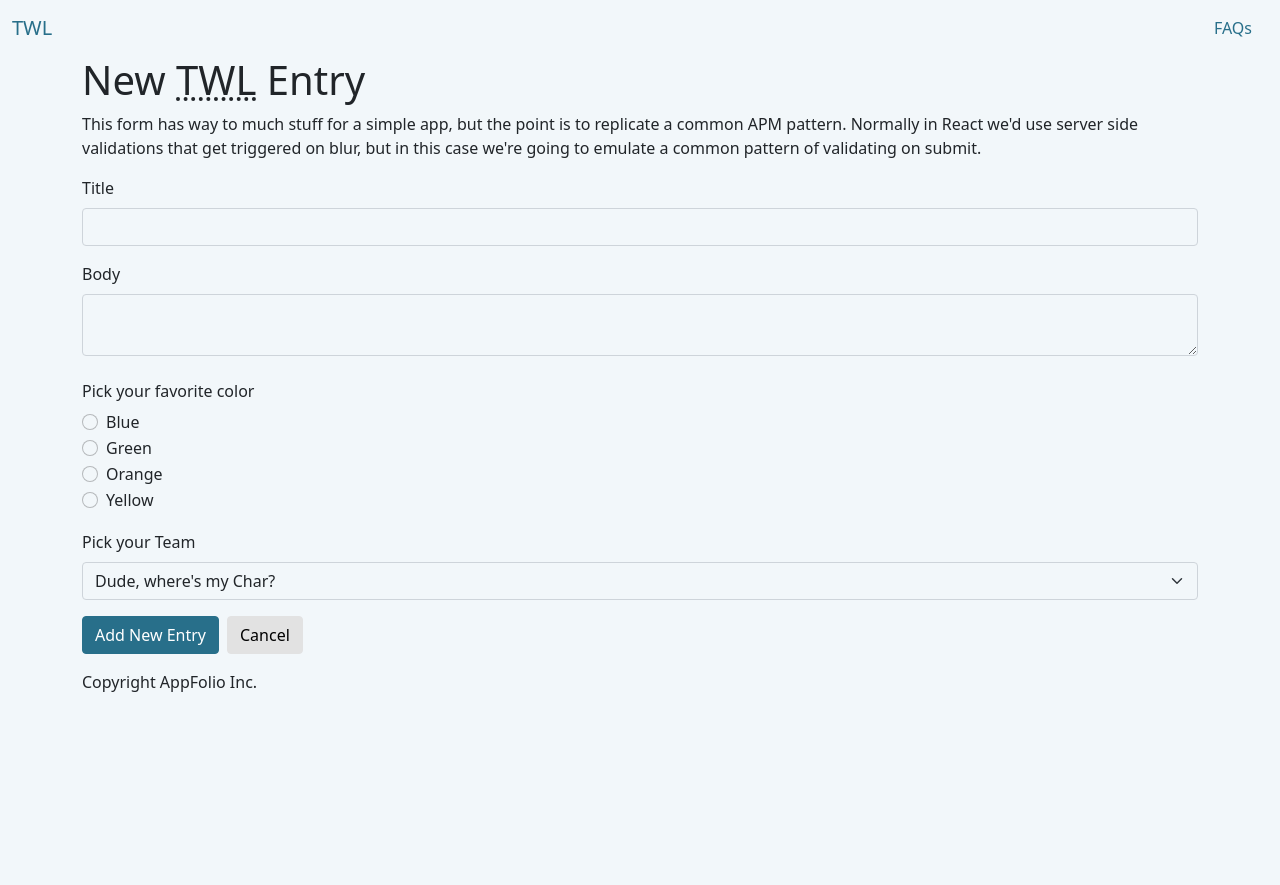
App › successfully adds a new entry
The width and height of the screenshot is (1280, 885).
Type "Suh dude" into the field labelled "Title".
click(640, 227); type("Suh dude")  # box 82,208 -> 1198,246
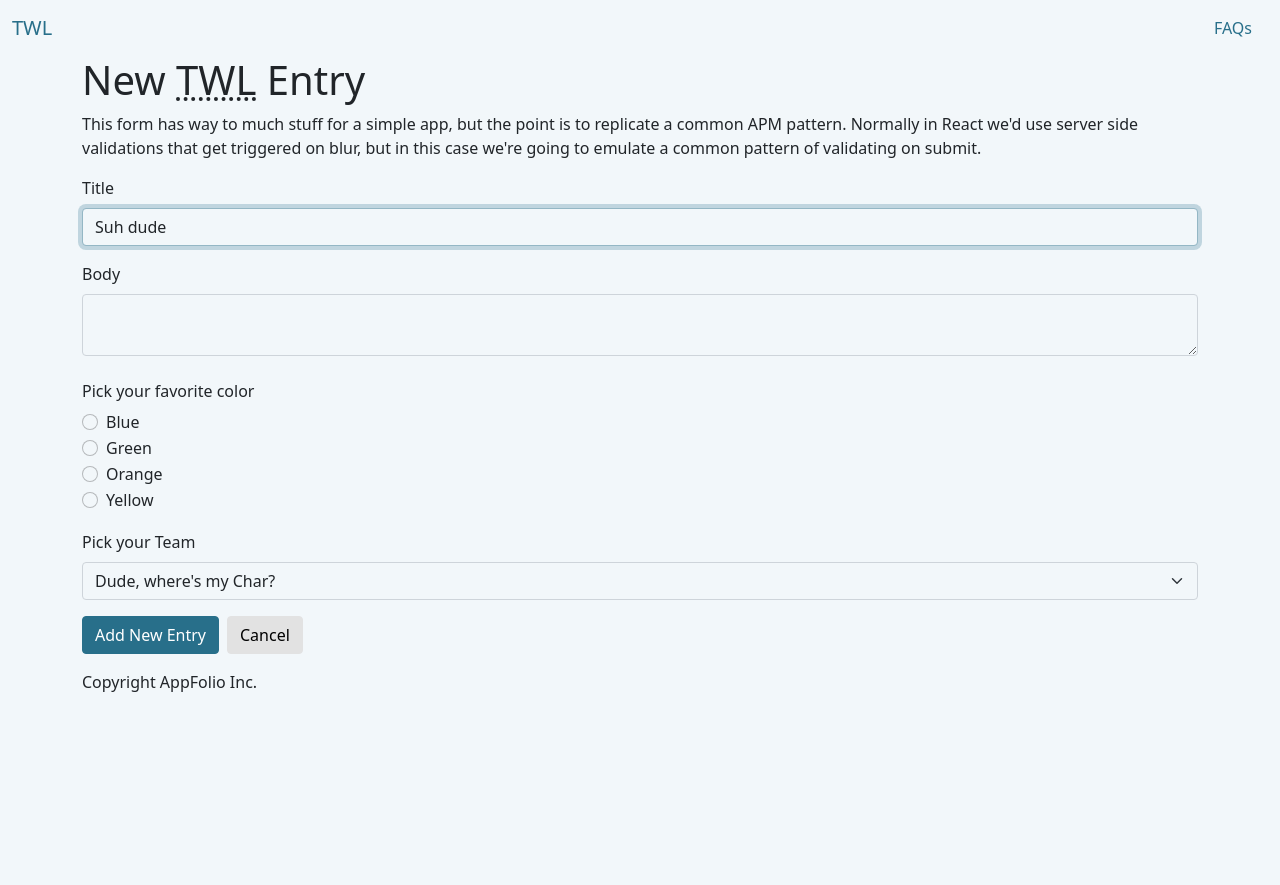
Type "Kiss me thru the phone" into the text box labelled "Body".
click(640, 325); type("Kiss me thru the phone")  # box 82,294 -> 1198,356
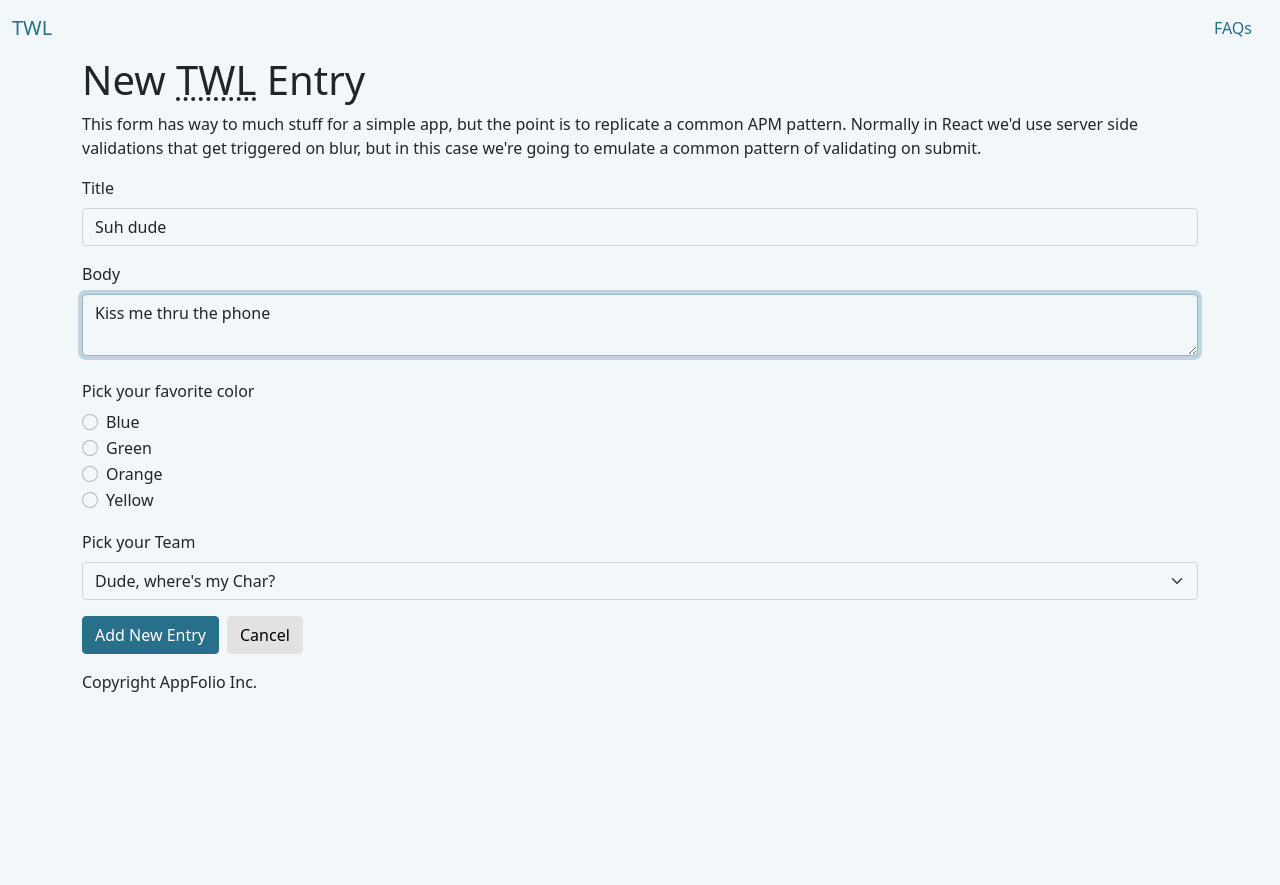
Click the radio button labelled "Green".
click(90, 448)  # box 82,440 -> 98,456
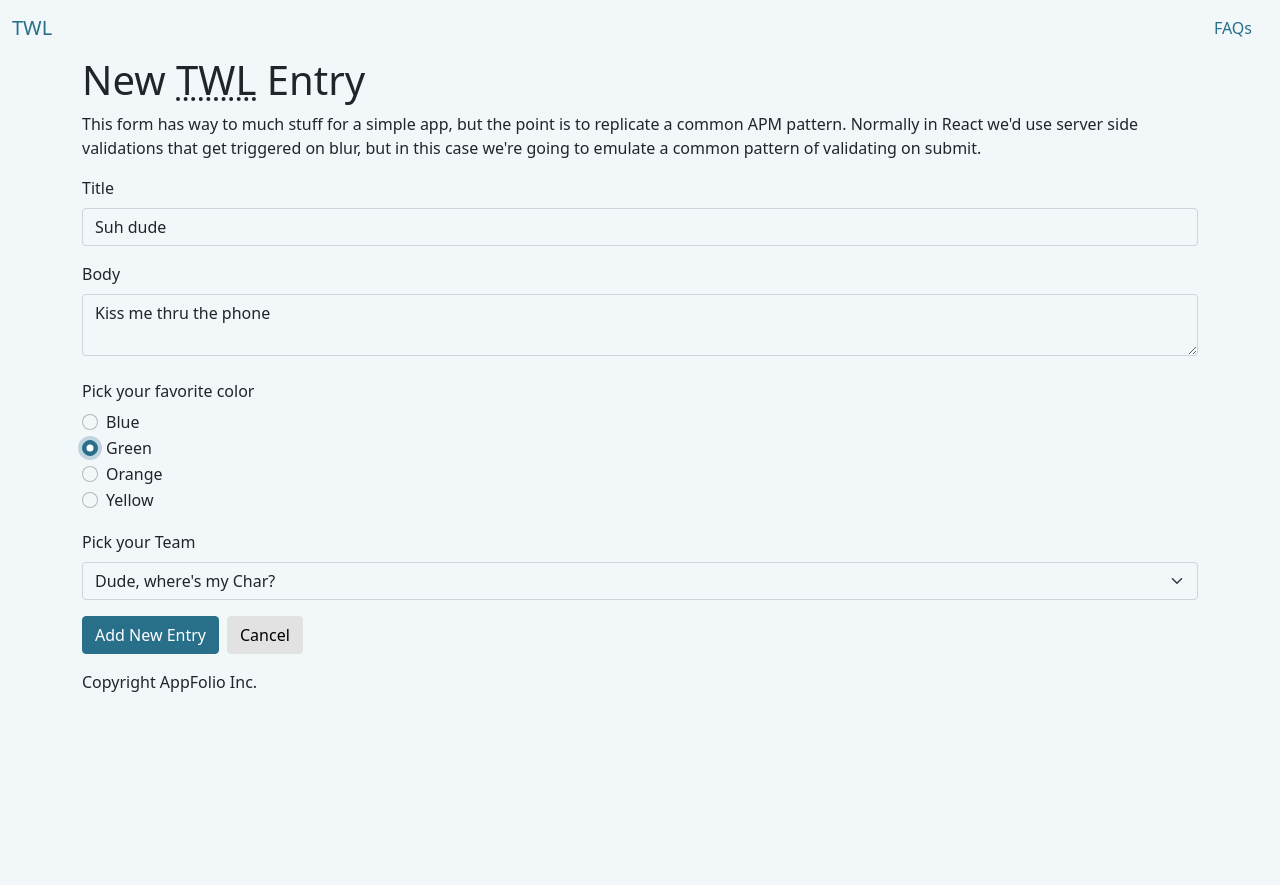
Check: the radio button labelled "Green" is checked, box 82,440 -> 98,456
Click the button "Add New Entry".
click(150, 635)  # box 82,616 -> 219,654
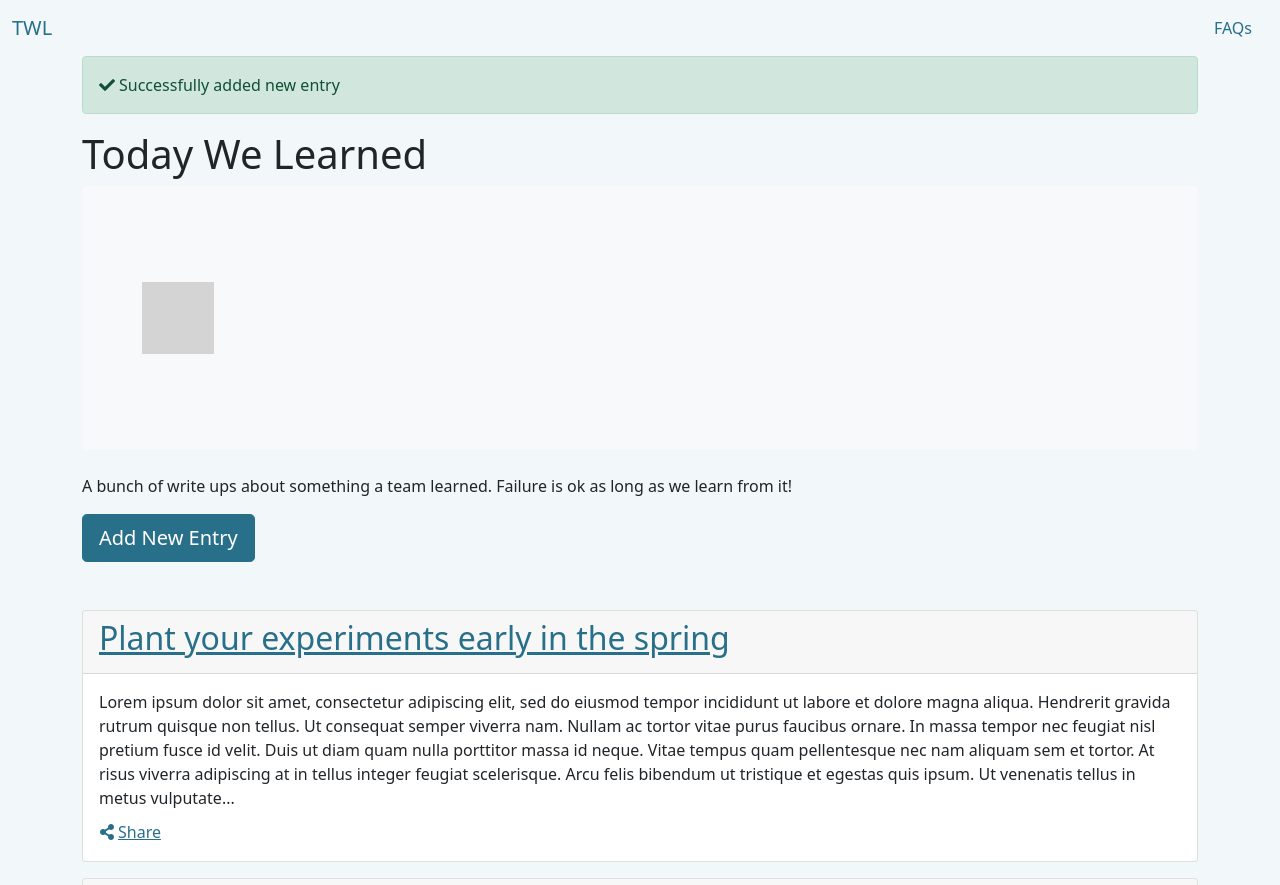
Check: the heading "Today We Learned" is shown, box 82,126 -> 427,181
Check: the text "Successfully added new entry" is shown, box 82,56 -> 1198,114
